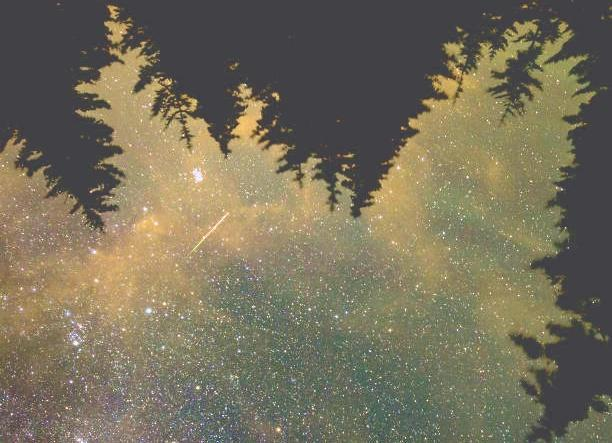meteorite: (189, 202, 255, 251)
